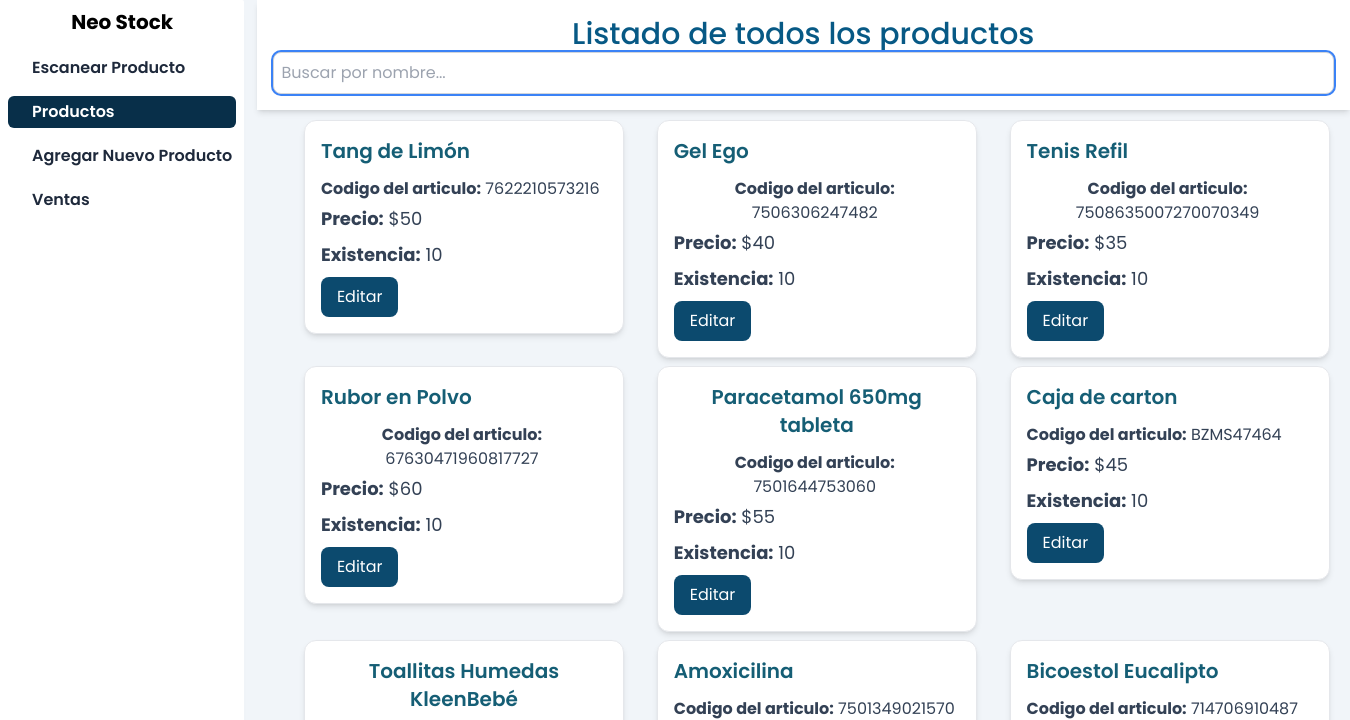
Items Visible › should not load any item
The image size is (1350, 720).
Type "This item does not exist" into the field with id "inputSearchBar" at (804, 73), box [273,52,1335,94]
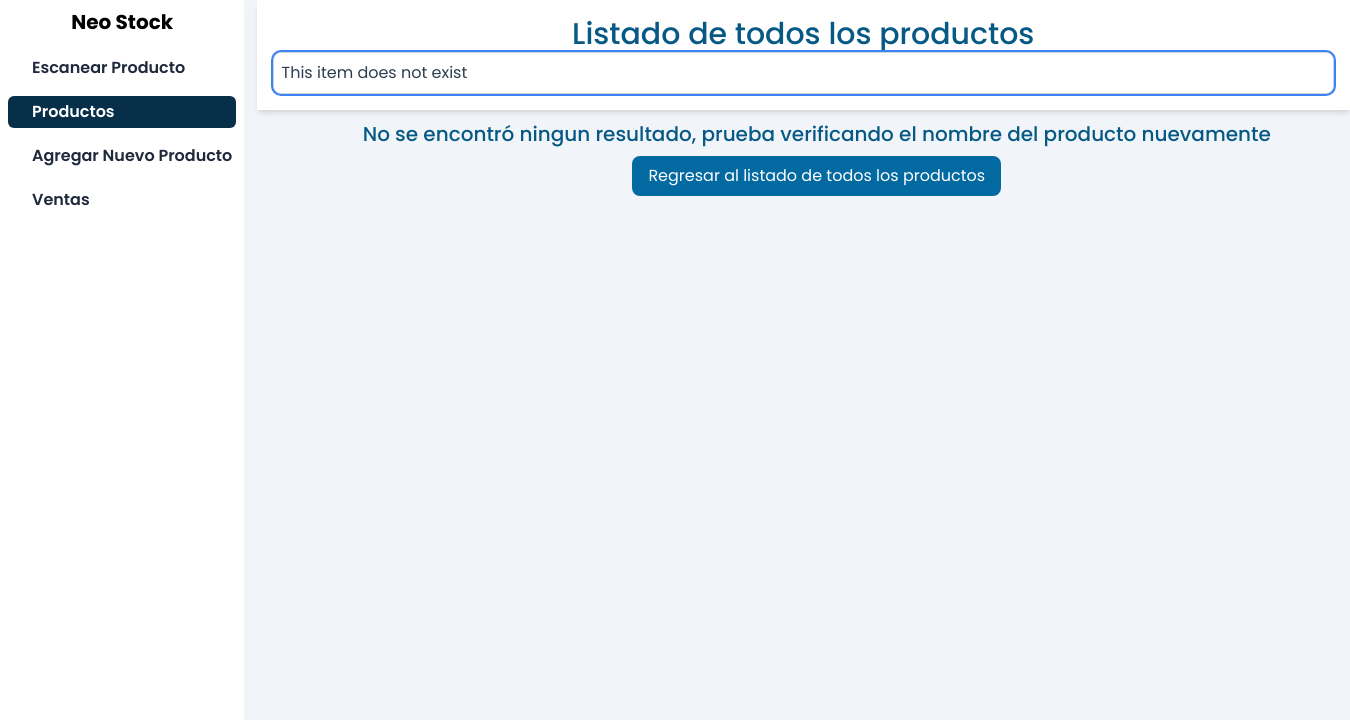
expect the heading "No se encontró ningun resultado, prueba verificando el nombre del producto nuevamente" is shown: met, box [363,120,1271,148]
Click the button with id "getBackListProducts" at (817, 176), box [632,156,1001,196]
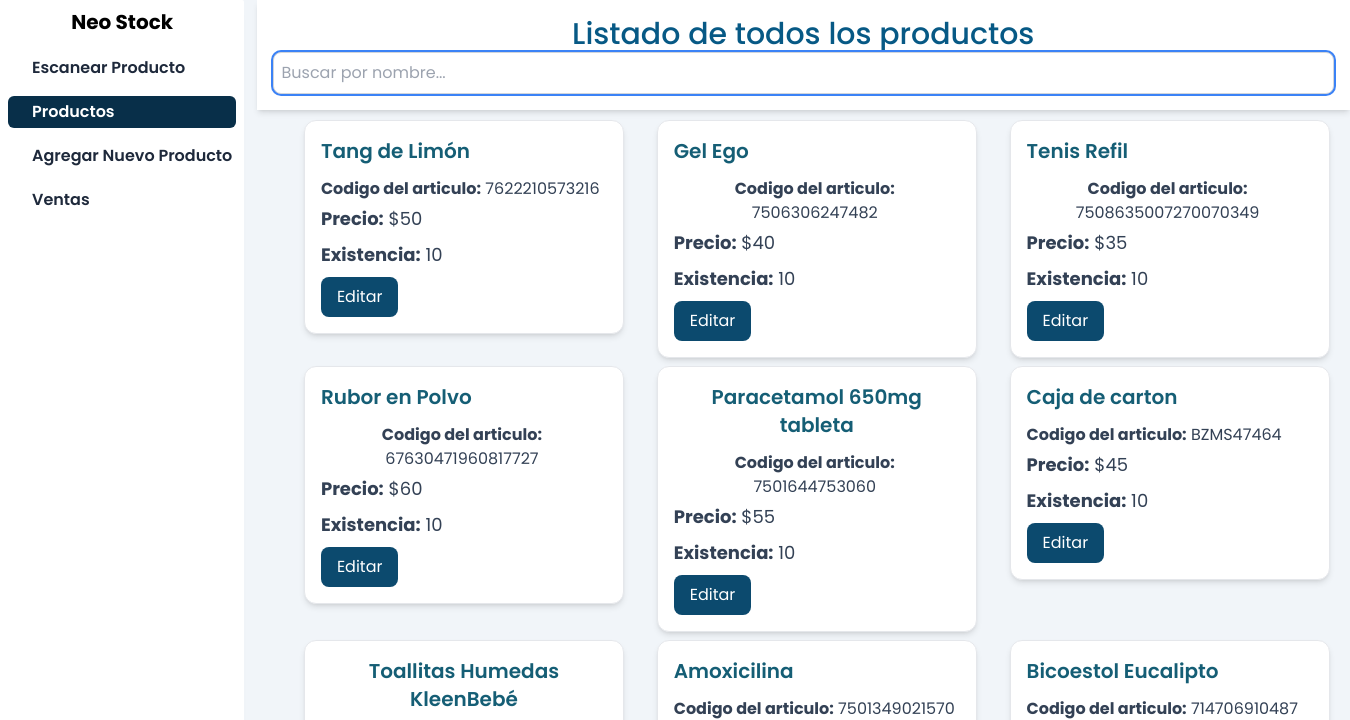
expect the element with test id "noItemsArticle" is gone: met
